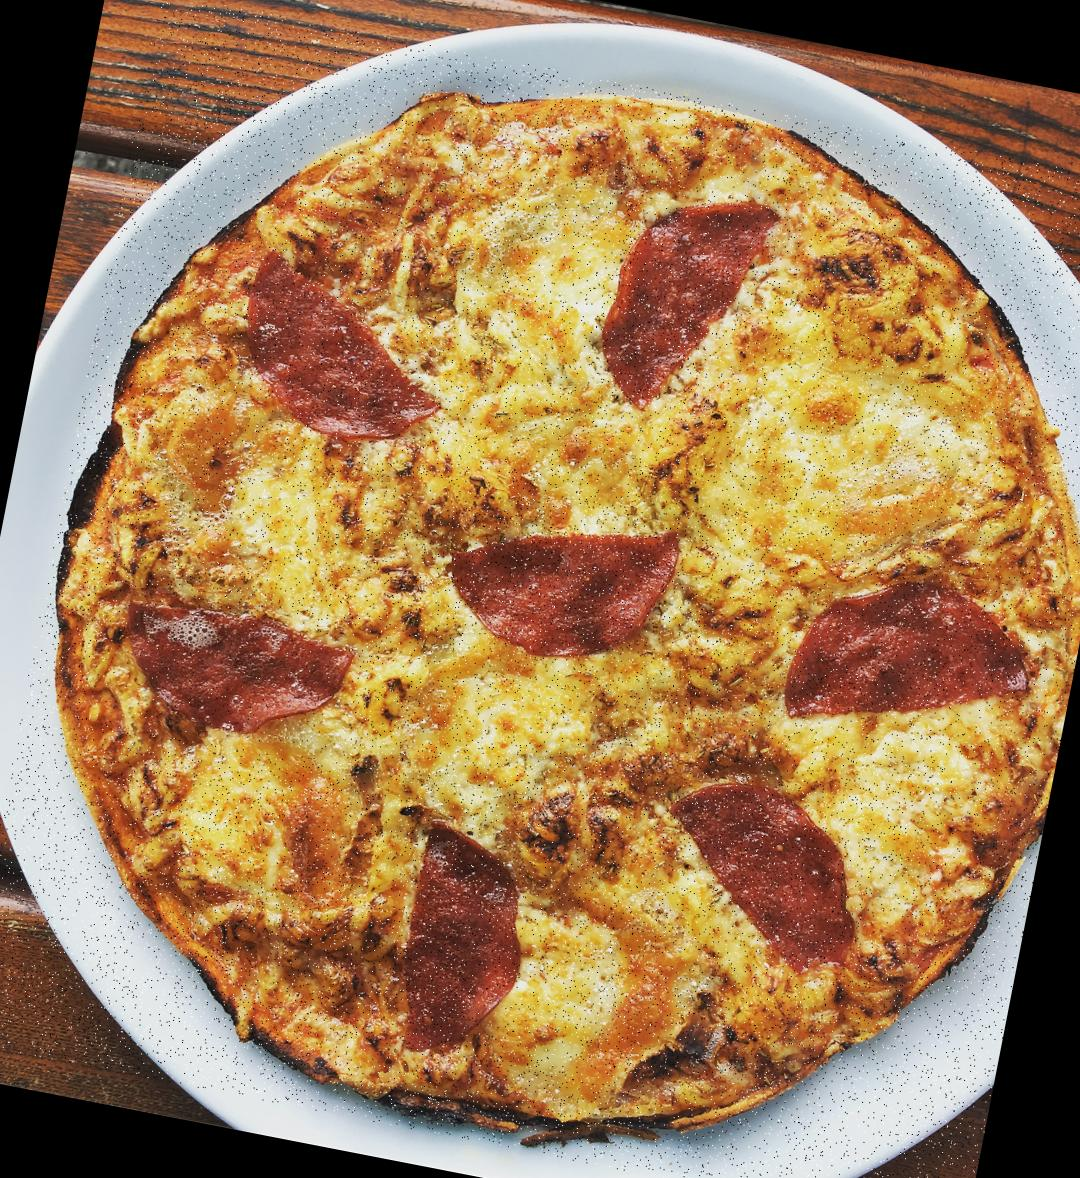Pepperoni: (768, 545, 1051, 778), (635, 759, 887, 1000), (214, 245, 472, 471), (576, 171, 785, 435), (428, 482, 694, 686), (98, 586, 364, 769), (377, 809, 552, 1079)
Pizza: (0, 0, 1080, 1178)
